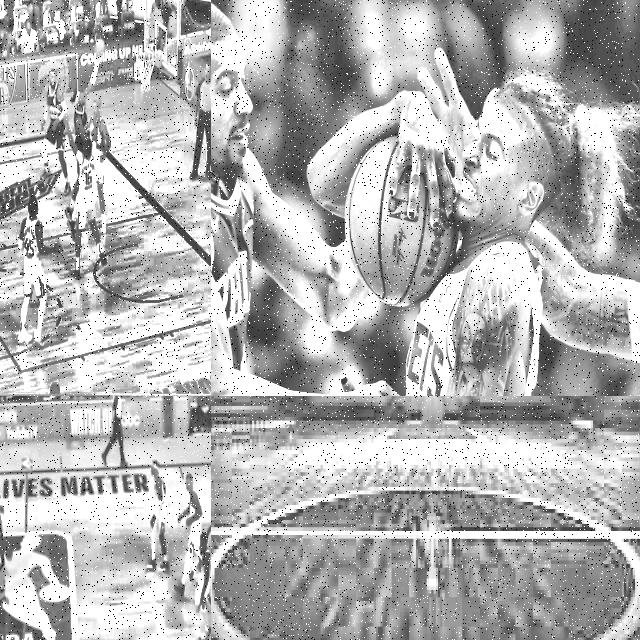Basketball: (345, 135, 458, 306), (96, 37, 106, 60), (4, 548, 13, 559)
